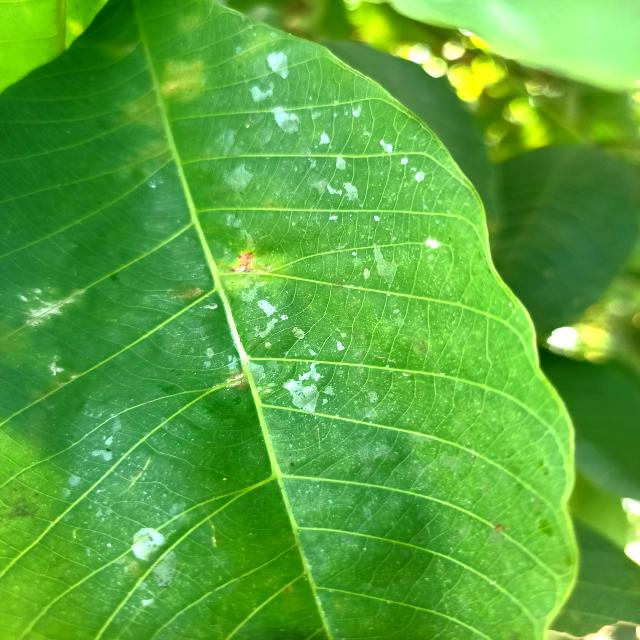Leaf-Blight: (230, 252, 254, 274)
